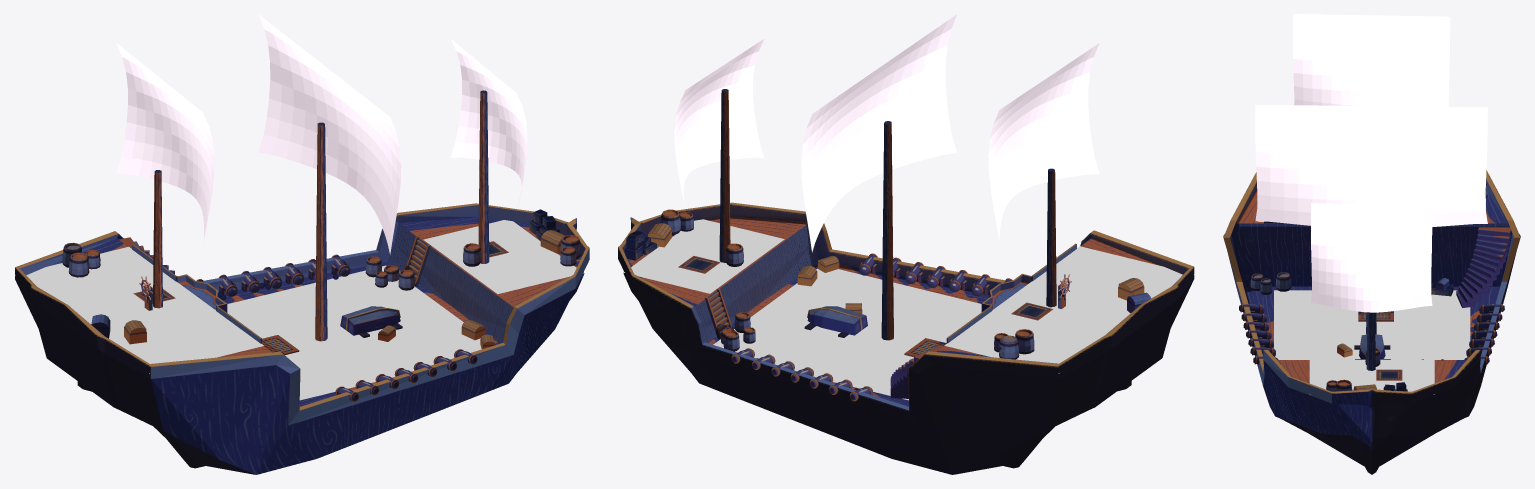
File: pirate-ship.glb
The picture shows the model from 3 angles, left to right: view 1: azimuth 30°, elevation 25°; view 2: azimuth 150°, elevation 25°; view 3: azimuth 270°, elevation 25°; orthographic projection. The views are drawn at different scales.
Parts seen in each view (by area): view 1: Bateau_map, steer-milieu, voile milieu, steer-arriere, voile arriere, voile avant, steer-avant, Mat_02, Mat_03, Mat_01, Barque, Balcon (+1 smaller); view 2: Bateau_map, voile milieu, steer-milieu, steer-arriere, voile arriere, voile avant, steer-avant, Mat_02, Mat_03, Mat_01, Barque, Balcon (+2 smaller); view 3: Bateau_map, voile milieu, voile arriere, voile avant, steer-milieu, steer-avant, Escalier_collimasson_01, Mat_03, Barque, Teleportation_02.
Part boxes in pixels (bbox=[...]): Bateau_map: bbox=[15, 203, 589, 474]; steer-milieu: bbox=[227, 265, 481, 400]; voile milieu: bbox=[258, 14, 401, 254]; steer-arriere: bbox=[15, 246, 263, 373]; voile arriere: bbox=[116, 43, 214, 242]; voile avant: bbox=[450, 39, 527, 209]; steer-avant: bbox=[423, 220, 583, 293]; Mat_02: bbox=[315, 122, 327, 341]; Mat_03: bbox=[478, 90, 489, 263]; Mat_01: bbox=[153, 170, 162, 308]; Barque: bbox=[340, 306, 400, 335]; Balcon: bbox=[176, 274, 227, 312]; Bateau_map: bbox=[618, 202, 1194, 474]; voile milieu: bbox=[801, 14, 957, 252]; steer-milieu: bbox=[713, 268, 981, 400]; steer-arriere: bbox=[944, 246, 1194, 373]; voile arriere: bbox=[988, 43, 1099, 239]; voile avant: bbox=[674, 39, 764, 207]; steer-avant: bbox=[624, 219, 784, 293]; Mat_02: bbox=[881, 121, 893, 340]; Mat_03: bbox=[719, 89, 730, 262]; Mat_01: bbox=[1046, 168, 1056, 307]; Barque: bbox=[807, 306, 867, 335]; Balcon: bbox=[981, 273, 1032, 311]; Bateau_map: bbox=[1223, 170, 1520, 474]; voile milieu: bbox=[1255, 104, 1487, 226]; voile arriere: bbox=[1293, 14, 1450, 106]; voile avant: bbox=[1310, 203, 1432, 312]; steer-milieu: bbox=[1274, 290, 1470, 359]; steer-avant: bbox=[1309, 359, 1434, 394]; Escalier_collimasson_01: bbox=[1456, 227, 1511, 307]; Mat_03: bbox=[1366, 312, 1375, 370]; Barque: bbox=[1359, 334, 1385, 359]; Teleportation_02: bbox=[1376, 369, 1402, 380].
Bounding box in the file's own units: 41.95 × 30.66 × 24.7.
Materials: 21 (20 with a texture image).
